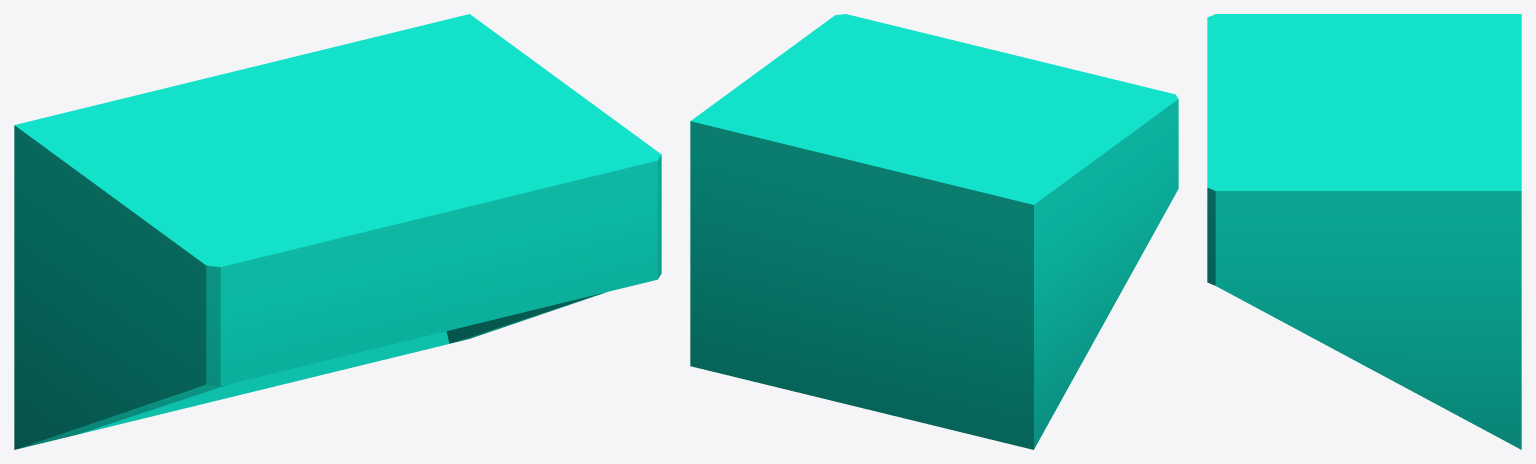
File: Kitchen_Exhaust_01_C05.fbx
3 renders of one model, left to right at view 1: azimuth 30°, elevation 25°; view 2: azimuth 150°, elevation 25°; view 3: azimuth 270°, elevation 25°, orthographic. The views are drawn at different scales.
Visible parts, largest first — view 1: Kitchen_Exhaust_01_C05; view 2: Kitchen_Exhaust_01_C05; view 3: Kitchen_Exhaust_01_C05.
Part boxes in pixels (<box>): Kitchen_Exhaust_01_C05: <box>14,14,661,449</box>; Kitchen_Exhaust_01_C05: <box>690,14,1178,449</box>; Kitchen_Exhaust_01_C05: <box>1207,14,1521,449</box>.
Bounding box in the file's own units: 100 × 68.18 × 75.
